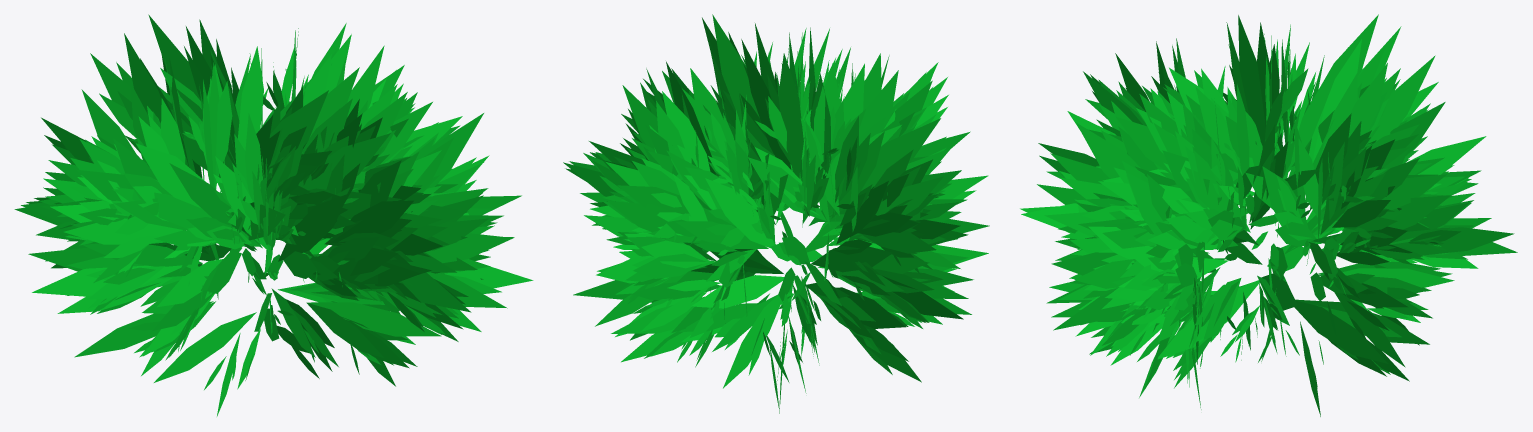
The model's file is trime.fbx.
3 renders of one model, left to right at view 1: azimuth 30°, elevation 25°; view 2: azimuth 150°, elevation 25°; view 3: azimuth 270°, elevation 25°, orthographic. The views are drawn at different scales.
Visible parts, largest first — view 1: leaves.002; view 2: leaves.002; view 3: leaves.002.
Boxes of the visible parts, x1,y1,x2,y2 form: leaves.002: (14,14,533,416); leaves.002: (563,14,989,413); leaves.002: (1020,14,1517,416).
Bounding box in the file's own units: 124 × 122 × 85.47.
